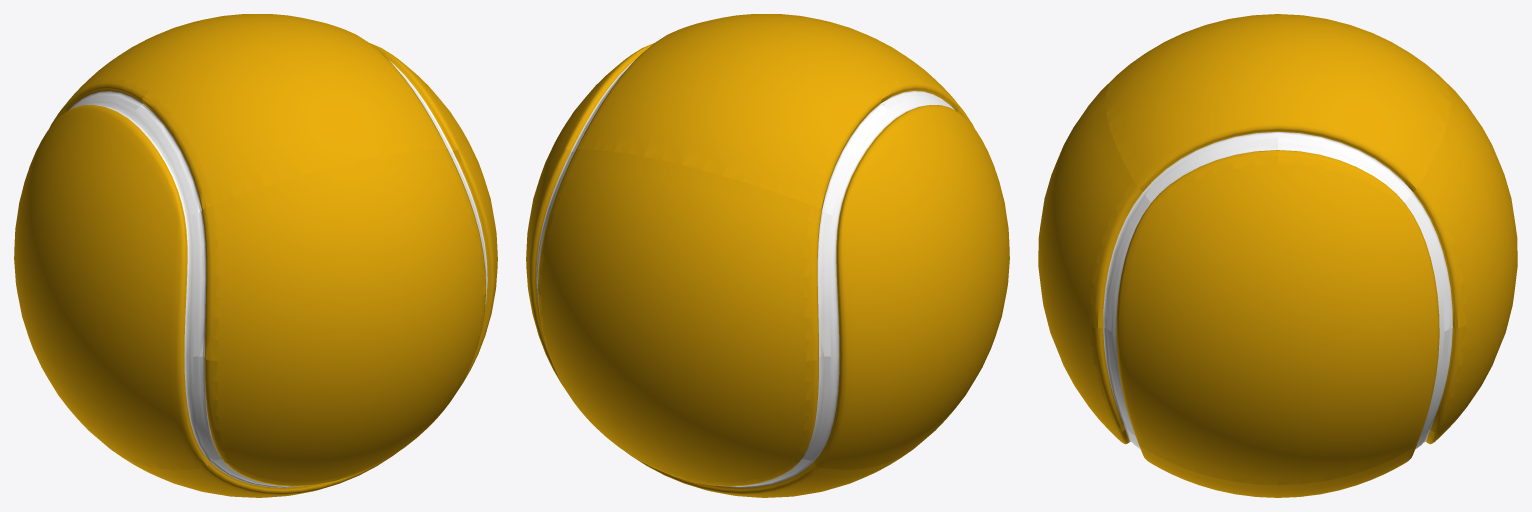
Rendered from tenbalxxs.obj.
3 views of the same model, side by side, from view 1: azimuth 30°, elevation 25°; view 2: azimuth 150°, elevation 25°; view 3: azimuth 270°, elevation 25° (orthographic).
Size of the model in its own units: 3.6 by 3.62 by 3.6.
